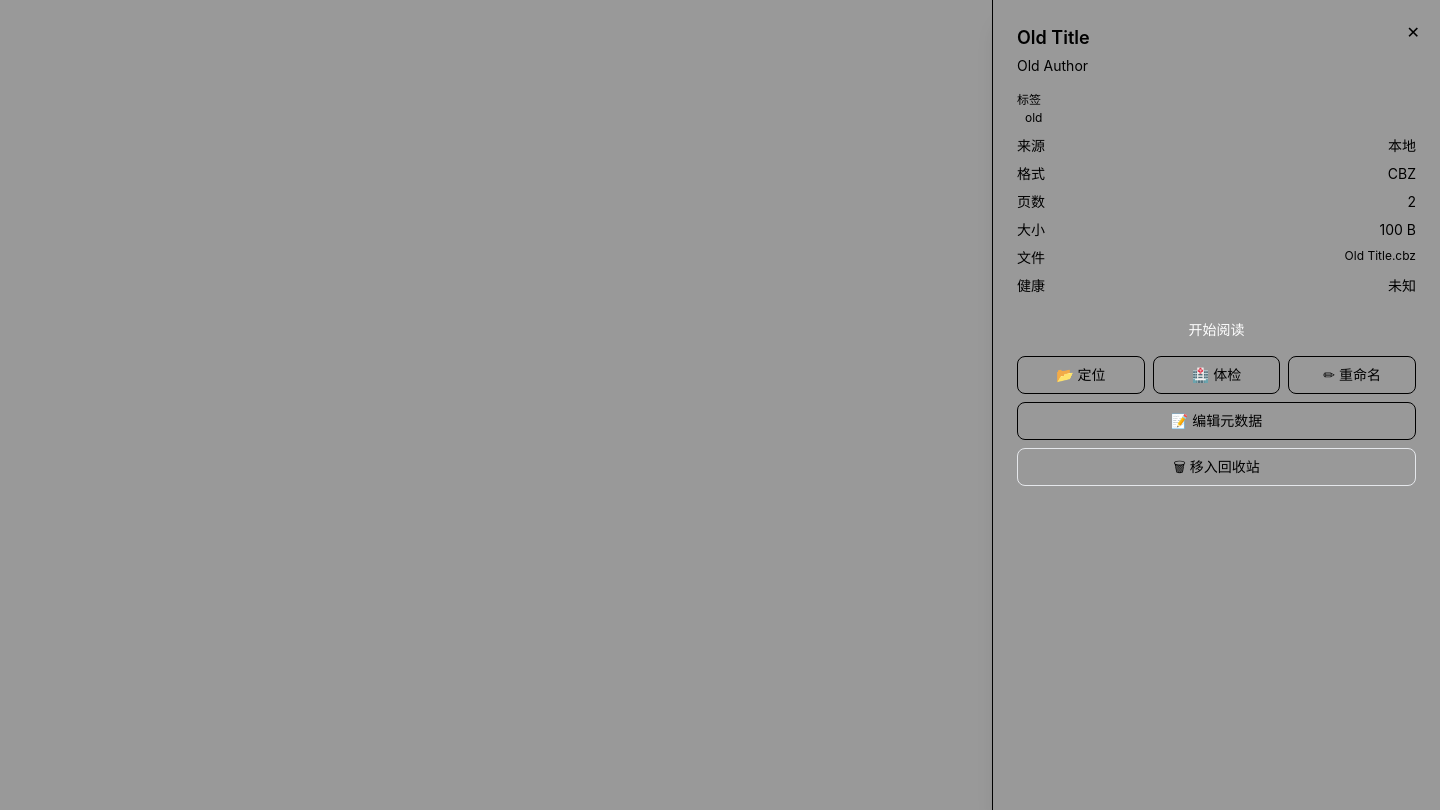
Test: LibraryAssetDetailDrawer › edits CBZ metadata and closes after the atomic write succeeds
Click the button with test id "detail-edit-metadata-btn" at point(1216, 421), box 1017,402 -> 1416,440
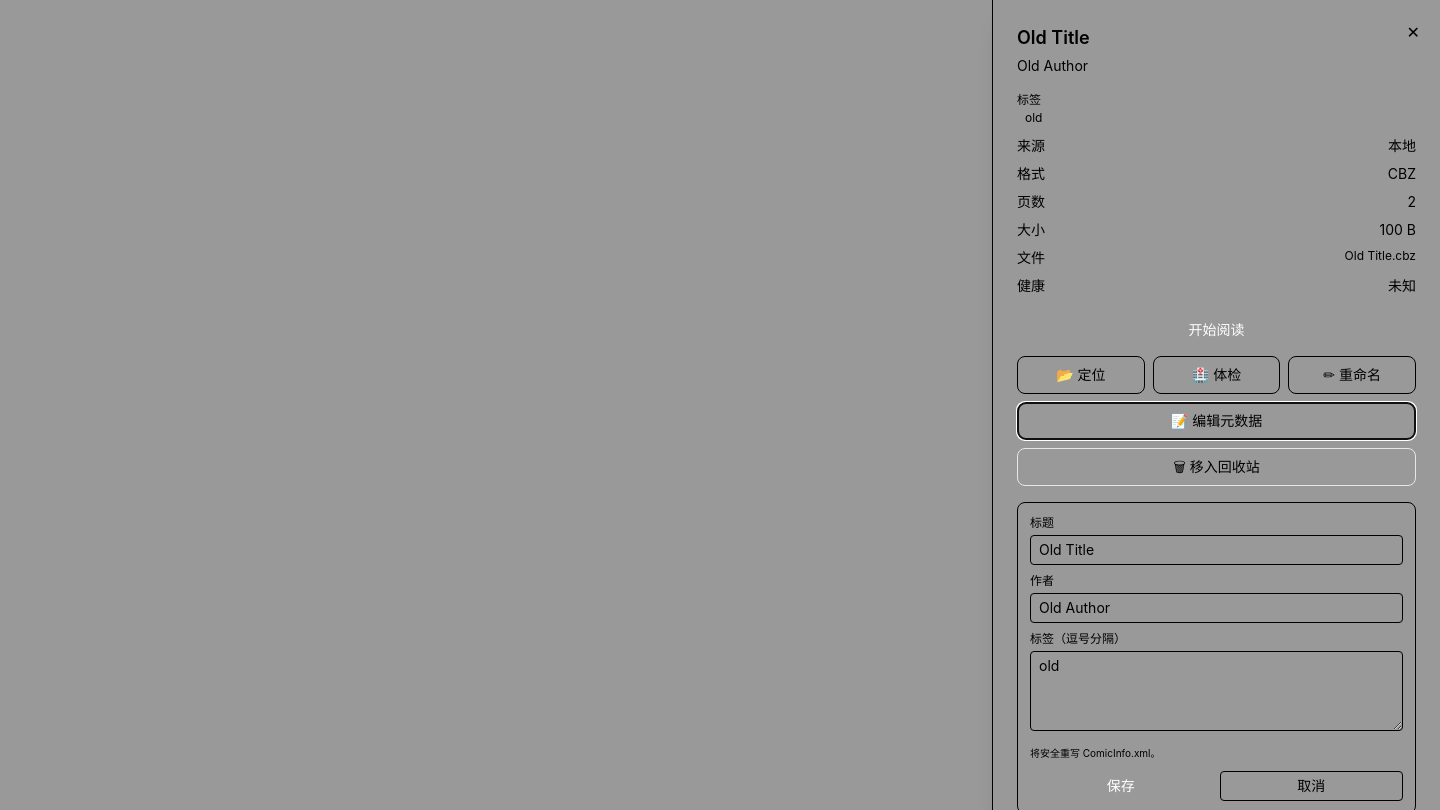
Replace the text in the field labelled "标题" with "New Title" at point(1216, 550), box 1030,535 -> 1403,565
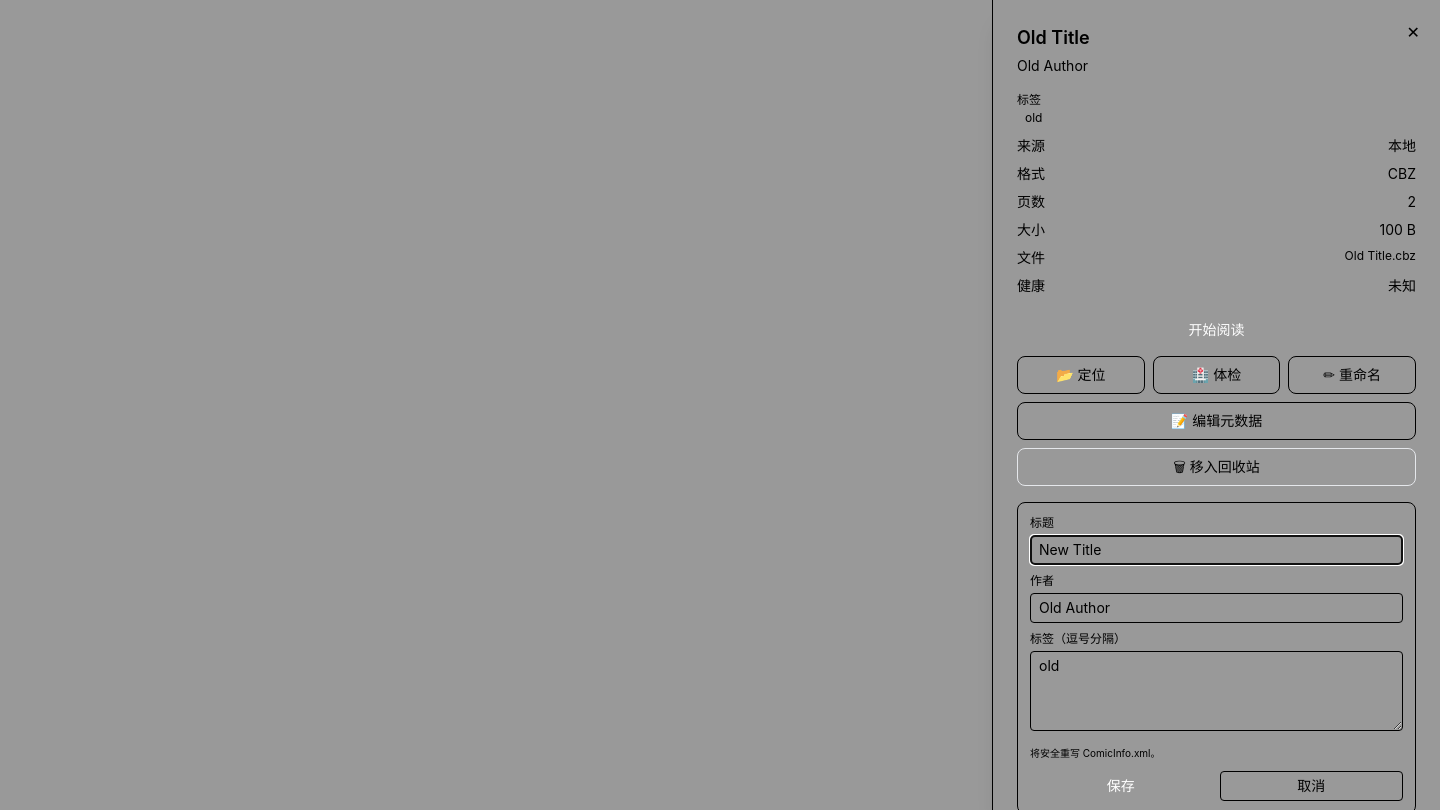
Click the button "保存" at point(1121, 786), box 1030,771 -> 1212,801
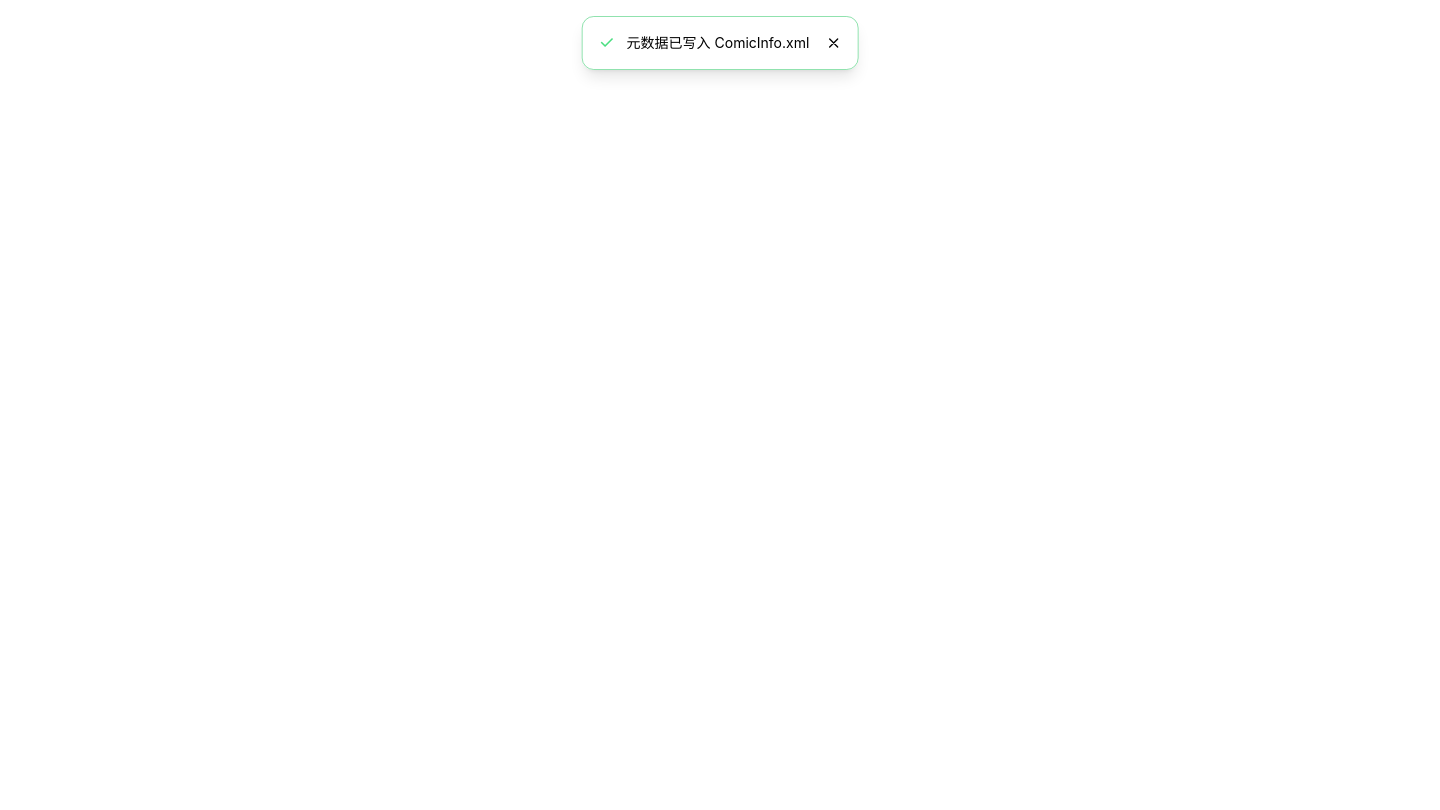
Check: the text "元数据已写入 ComicInfo.xml" is shown, box 627,33 -> 809,53
Check: the element with test id "library-detail-drawer" is gone
